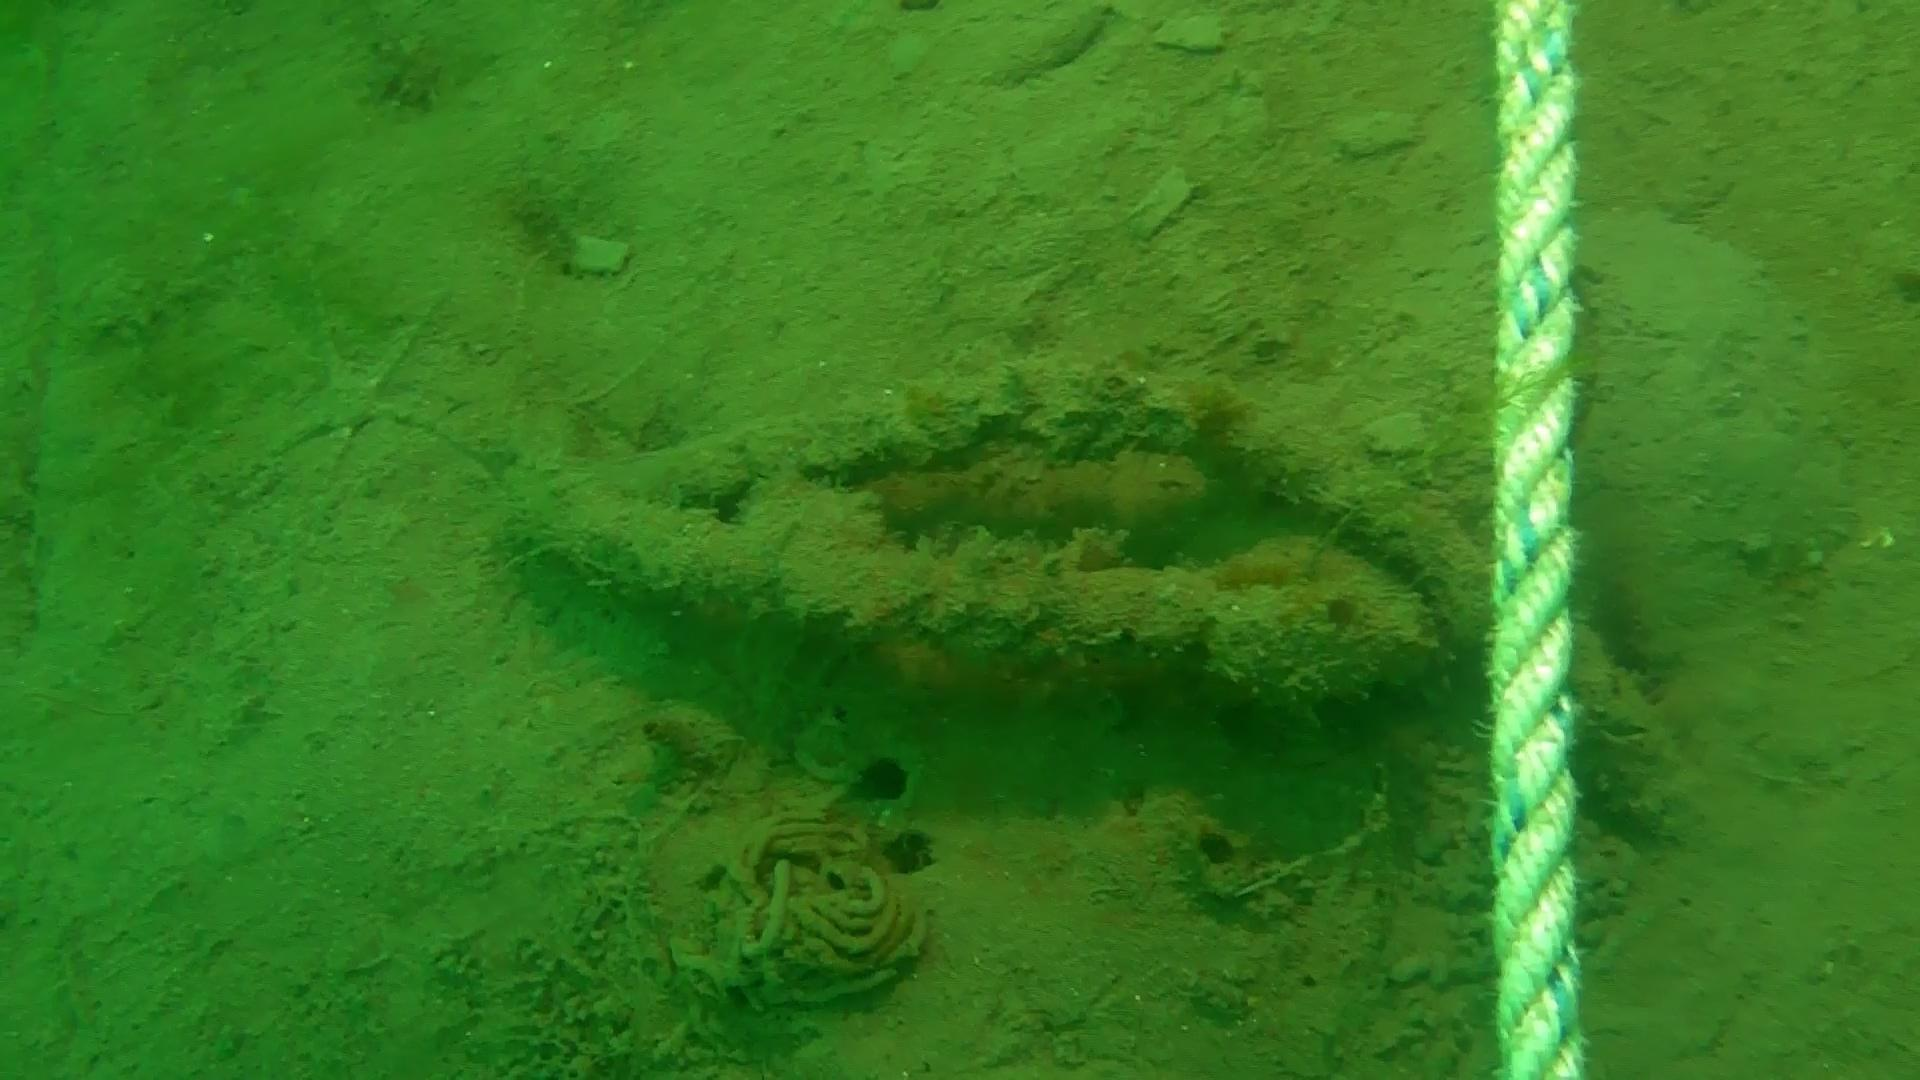rope: (1487, 0, 1589, 1080)
